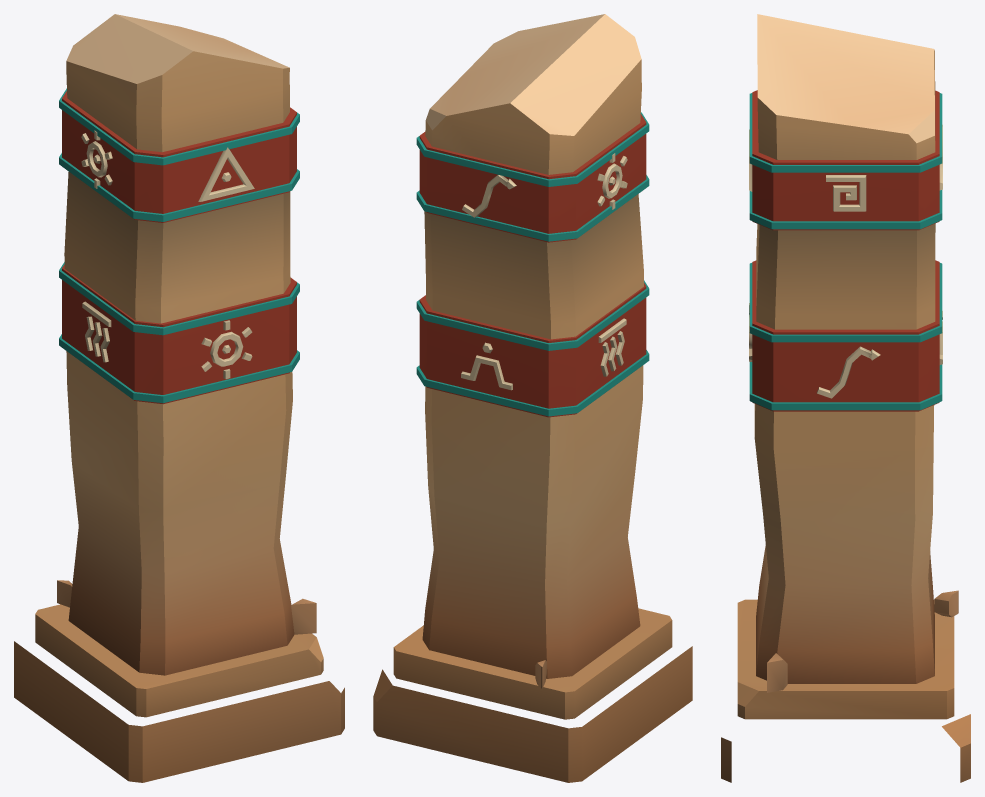
Rendered from sandstone_pillar.glb.
The picture shows the model from 3 angles, left to right: view 1: azimuth 30°, elevation 25°; view 2: azimuth 150°, elevation 25°; view 3: azimuth 270°, elevation 25°; orthographic projection. The views are drawn at different scales.
Visible parts, largest first — view 1: sandstone_pillar; view 2: sandstone_pillar; view 3: sandstone_pillar.
Part boxes in pixels (<box>): sandstone_pillar: <box>14,14,344,782</box>; sandstone_pillar: <box>373,14,692,782</box>; sandstone_pillar: <box>721,14,970,782</box>.
Bounding box in the file's own units: 1.2 × 3.72 × 1.2.
